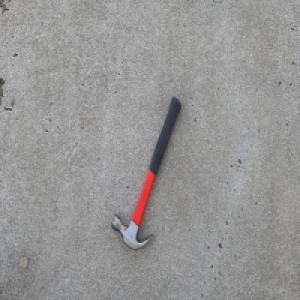Hammer: (110, 95, 182, 250)
